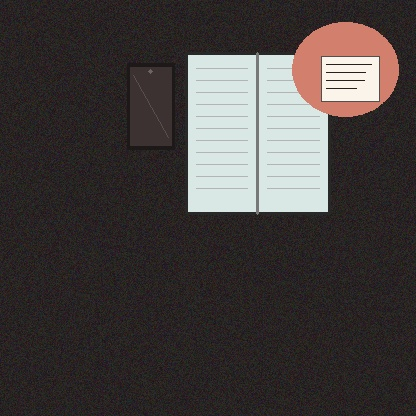book: (186, 53, 329, 213)
cell_phone: (127, 63, 174, 149)
exam_chit: (321, 56, 379, 101)
